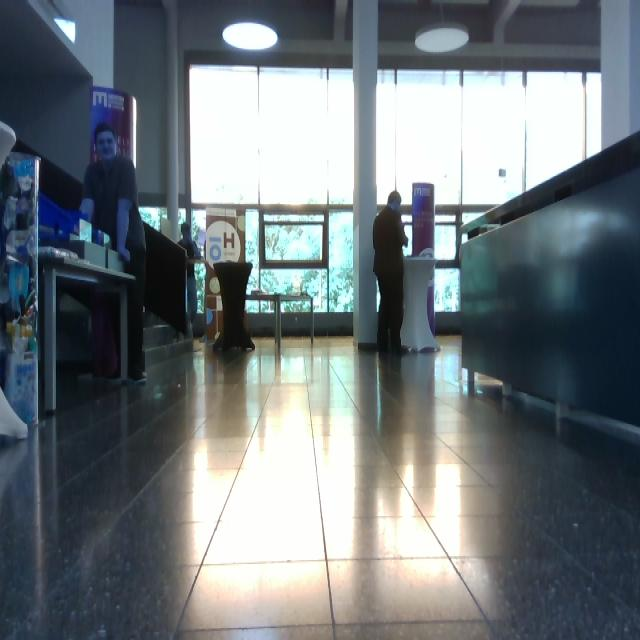door: (260, 210, 328, 313)
light bulb: (222, 21, 279, 52), (415, 22, 470, 53), (1, 386, 29, 440), (1, 121, 17, 169), (54, 17, 76, 44)
person: (79, 122, 148, 385), (373, 191, 410, 355), (177, 222, 202, 325)
pillar: (352, 1, 379, 349), (412, 183, 437, 339)
tiled floor: (2, 331, 639, 639)
